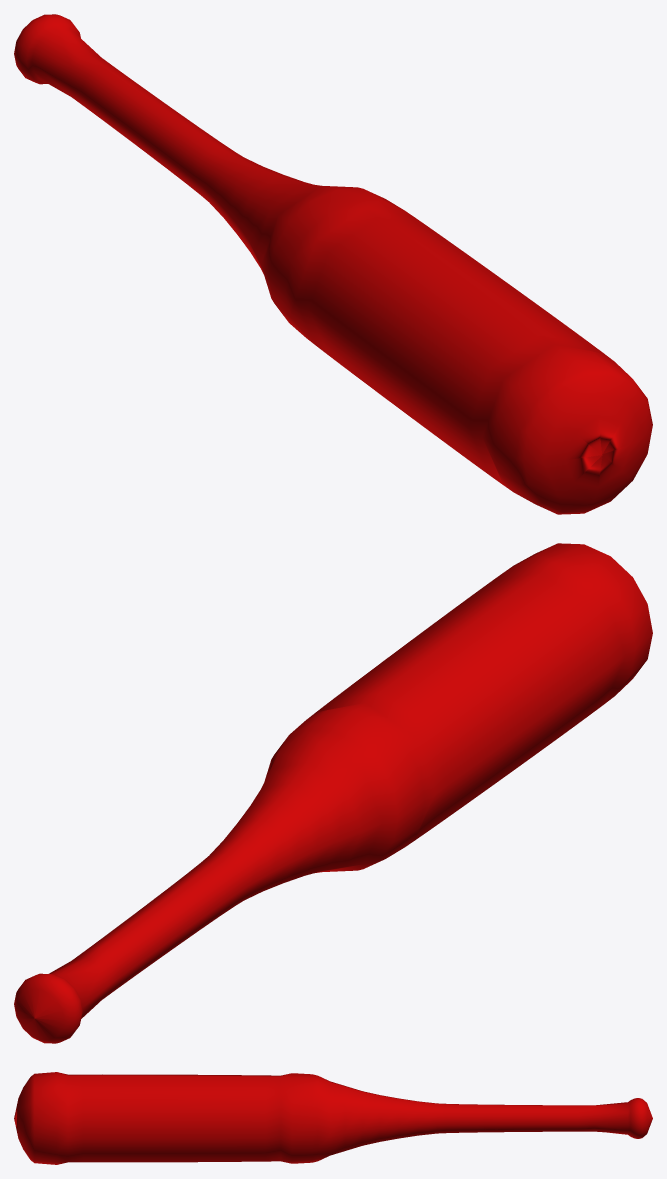
The model's file is baseballbat.fbx.
3 views of the same model, one above another, from view 1: azimuth 30°, elevation 25°; view 2: azimuth 150°, elevation 25°; view 3: azimuth 270°, elevation 25° (orthographic). The views are drawn at different scales.
Visible parts, largest first — view 1: nurbsToPoly1; view 2: nurbsToPoly1; view 3: nurbsToPoly1.
Boxes of the visible parts, x1,y1,x2,y2 form: nurbsToPoly1: (14, 14, 652, 514); nurbsToPoly1: (14, 543, 652, 1043); nurbsToPoly1: (14, 1072, 652, 1164).
Bounding box in the file's own units: 0.1326 × 0.1326 × 0.9046.
